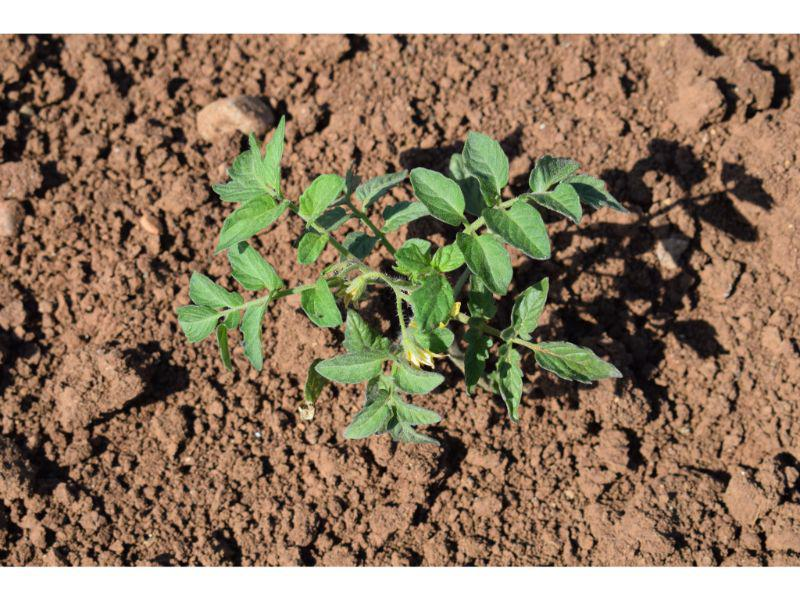tomato: (177, 113, 624, 447)
